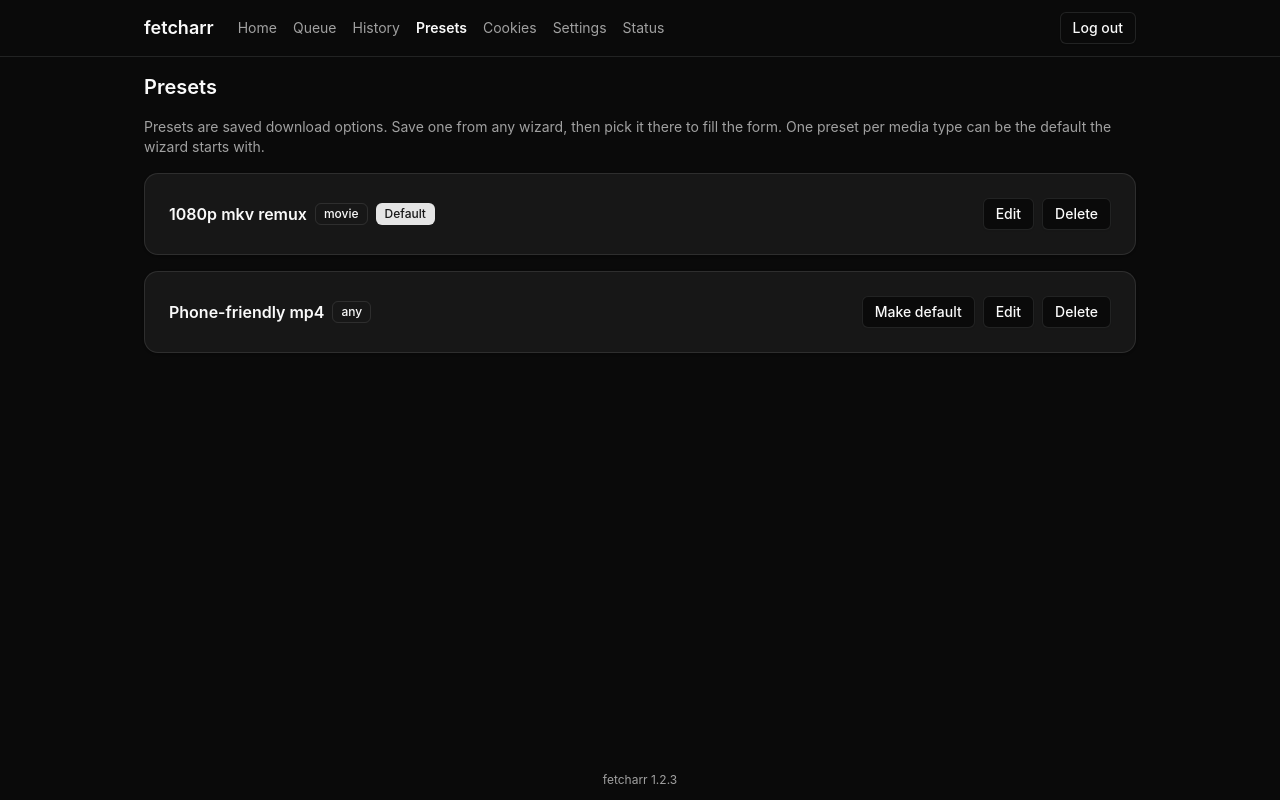
Test: PresetsPage › shows why a save failed
The width and height of the screenshot is (1280, 800).
Click the button "Edit" in the row of "movie": (1008, 214) [983, 198, 1034, 230]
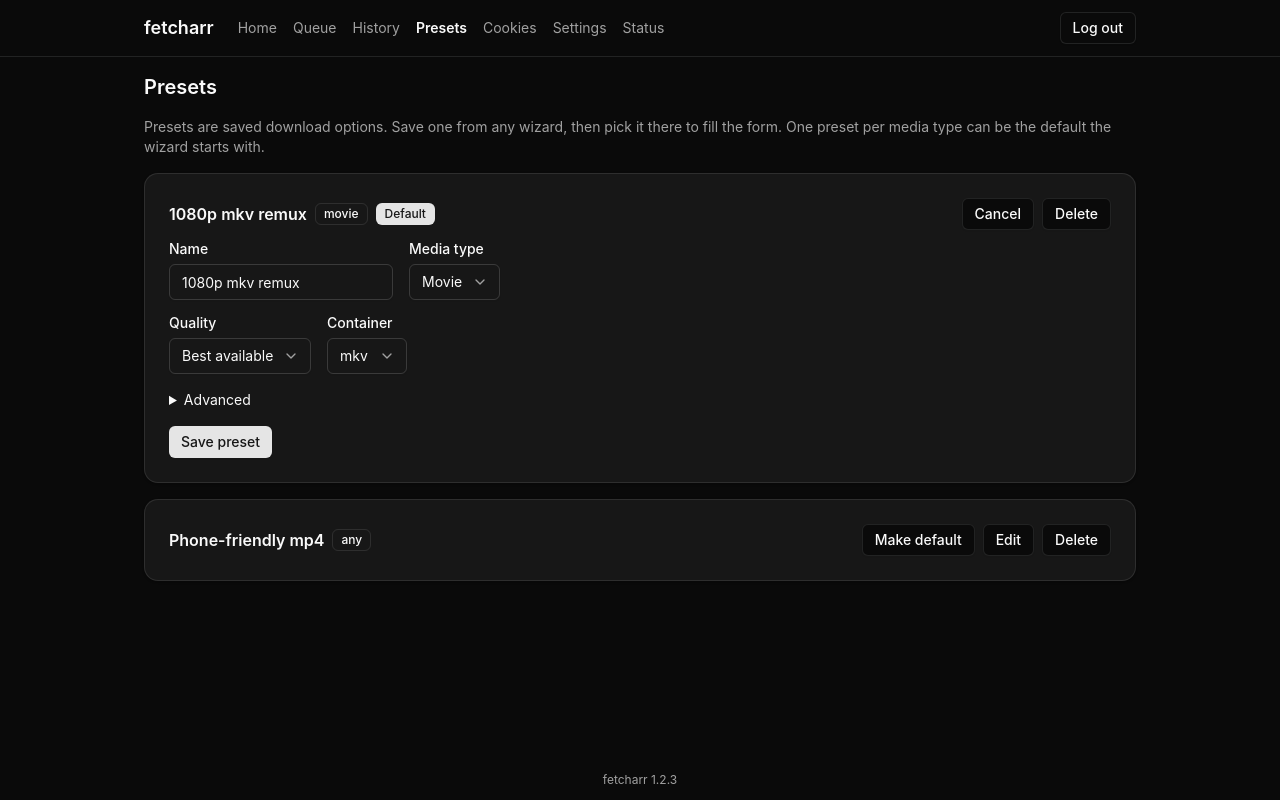
Click the button "Save preset": (221, 442) [169, 426, 272, 458]
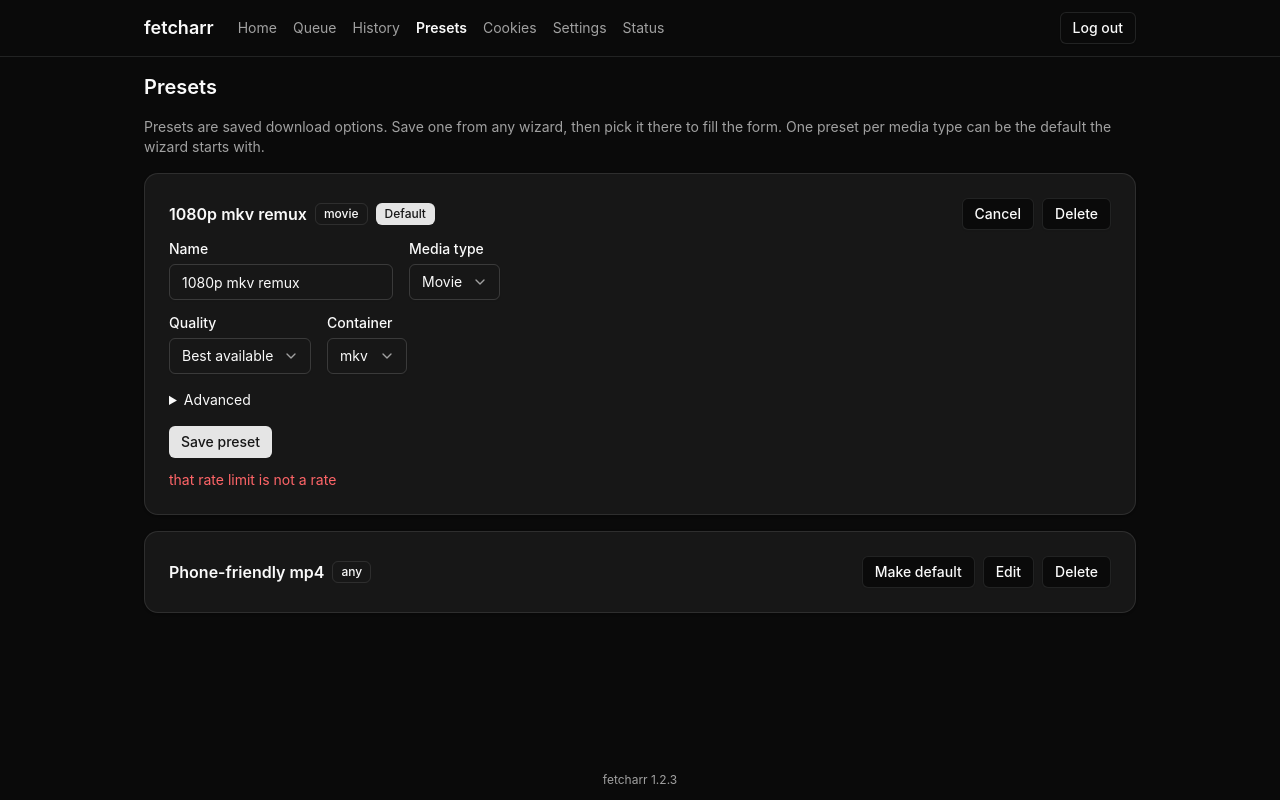
Result: the message reads "that rate limit is not a rate" at [169, 471, 336, 488]
